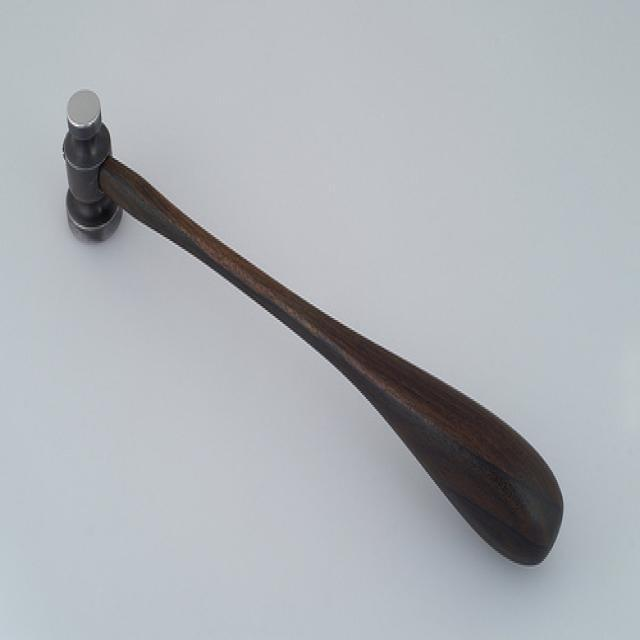hammer: (52, 75, 576, 578)
